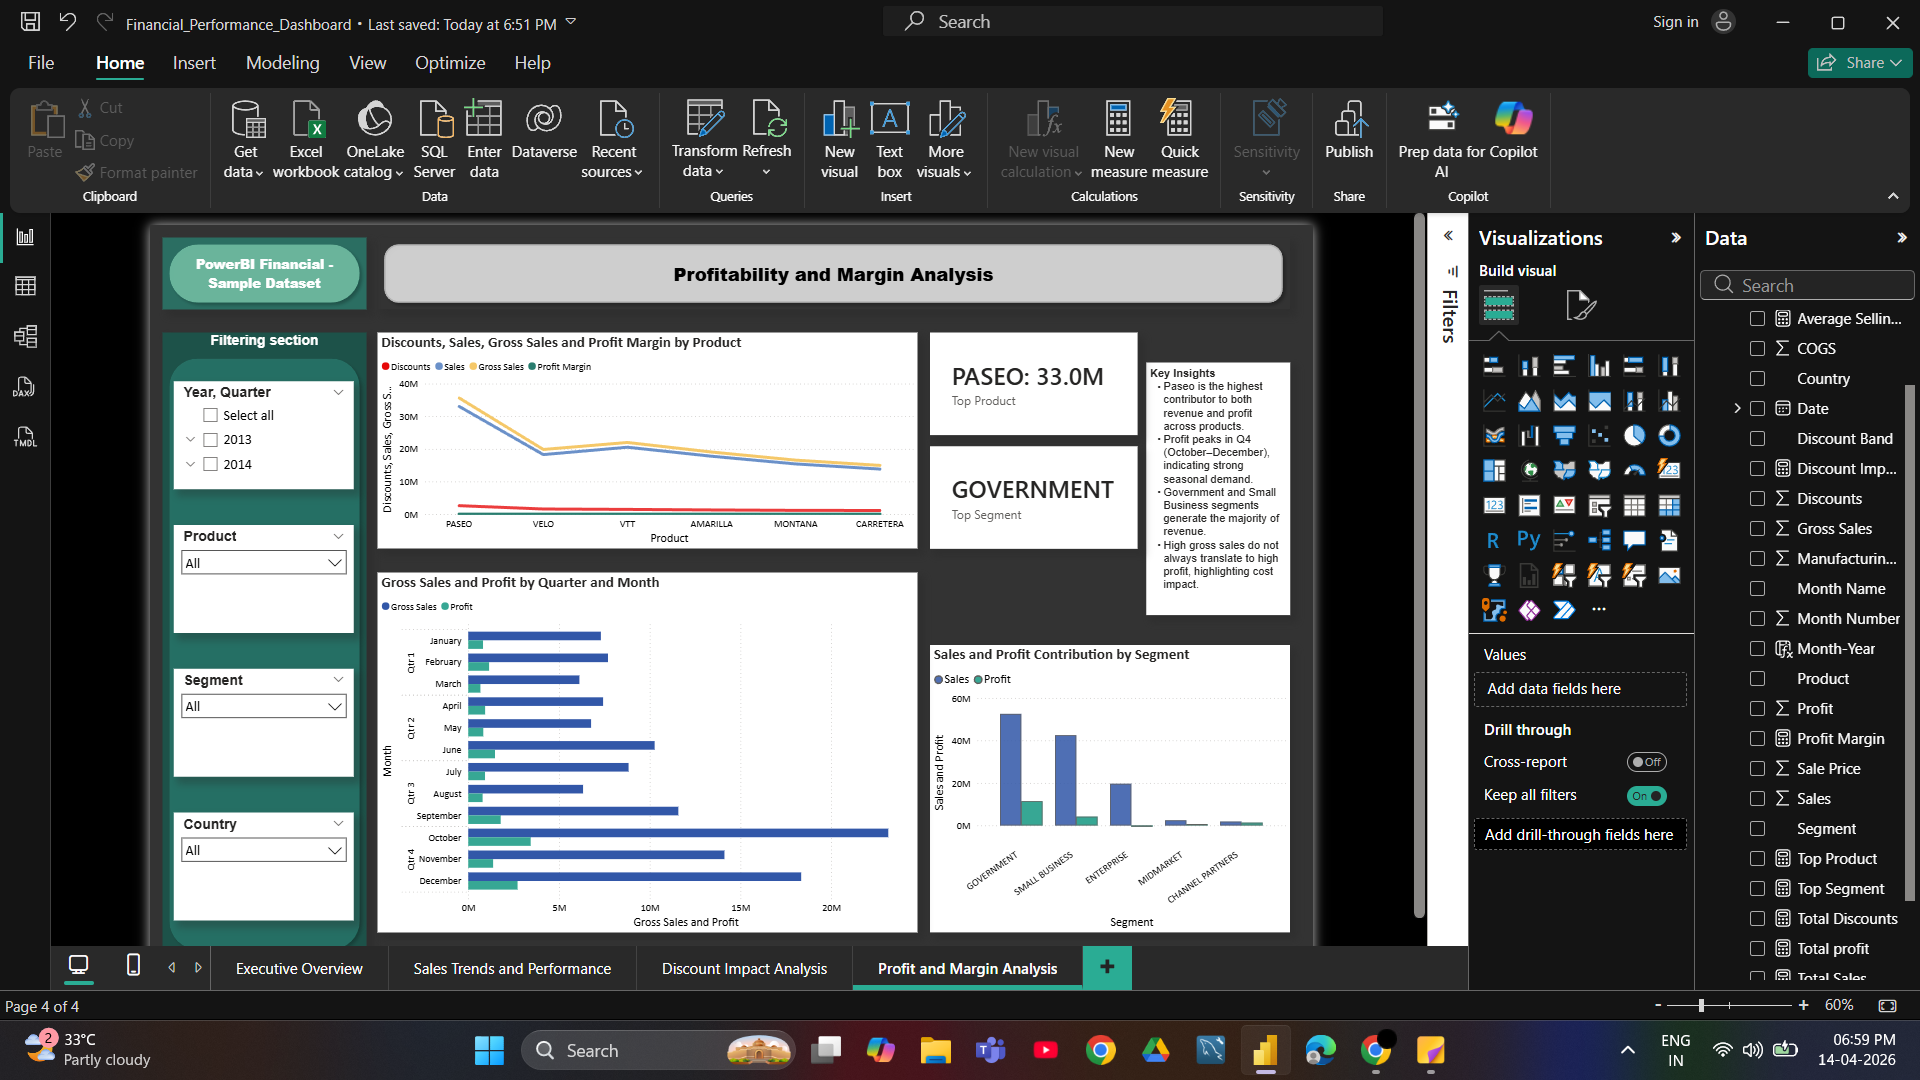

The dashboard page shown, as its layout file describes it:
{"tool":"powerbi","page":{"name":"Profit and Margin Analysis","canvas":[1550,1000],"ordinal":3},"visuals":[{"type":"shape","title":"Filtering  section","box":[16,144,272,832],"z":0},{"type":"shape","title":"PowerBI Financial - Sample Dataset","box":[16,16,272,96],"z":1000},{"type":"shape","box":[304,16,1216,96],"z":2000},{"type":"slicer","fields":{"Values":["financials.Date.Variation.Date Hierarchy.Year","financials.Date.Variation.Date Hierarchy.Quarter"]},"box":[32,208,240,144],"z":3000},{"type":"slicer","fields":{"Values":["financials.Product"]},"box":[32,400,240,144],"z":4000},{"type":"slicer","fields":{"Values":["financials.Segment"]},"box":[32,592,240,144],"z":5000},{"type":"slicer","fields":{"Values":["financials.Country"]},"box":[32,784,240,144],"z":6000},{"type":"textbox","box":[1328.3,183.3,191.7,336.7],"z":7000},{"type":"clusteredColumnChart","title":"Sales and Profit Contribution by Segment","fields":{"Category":["financials.Segment"],"Y":["Sum(financials.Sales)","Sum(financials.Profit)"]},"box":[1040,560,480,383.3],"z":8000},{"type":"clusteredBarChart","fields":{"Category":["financials.Date.Variation.Date Hierarchy.Quarter","financials.Date.Variation.Date Hierarchy.Month"],"Y":["Sum(financials.Gross Sales)","Sum(financials.Profit)"]},"box":[303.3,463.3,720,480],"z":9000},{"type":"lineChart","fields":{"Category":["financials.Product"],"Y":["Sum(financials.Discounts)","Sum(financials.Sales)","Sum(financials.Gross Sales)","financials.Profit Margin"]},"box":[303.3,143.3,720,288.3],"z":10000},{"type":"cardVisual","fields":{"Data":["financials.Top Product"]},"box":[1040,143.3,276.7,136.7],"z":11000},{"type":"cardVisual","fields":{"Data":["financials.Top Segment"]},"box":[1040,295,276.7,136.7],"z":12000}]}

Visuals, with their boxes on the page's 1550x1000 design canvas (x1, y1, x2, y2). These are canvas units, not pixel positions in the 1920x1080 screenshot, which may show the page scaled, cropped or inside an application window:
"Filtering  section" shape: bbox=(16, 144, 288, 976)
"PowerBI Financial - Sample Dataset" shape: bbox=(16, 16, 288, 112)
shape: bbox=(304, 16, 1520, 112)
slicer - financials.Date.Variation.Date Hierarchy.Year x financials.Date.Variation.Date Hierarchy.Quarter: bbox=(32, 208, 272, 352)
slicer - financials.Product: bbox=(32, 400, 272, 544)
slicer - financials.Segment: bbox=(32, 592, 272, 736)
slicer - financials.Country: bbox=(32, 784, 272, 928)
textbox: bbox=(1328, 183, 1520, 520)
"Sales and Profit Contribution by Segment" clusteredColumnChart: bbox=(1040, 560, 1520, 943)
clusteredBarChart - financials.Date.Variation.Date Hierarchy.Quarter x financials.Date.Variation.Date Hierarchy.Month: bbox=(303, 463, 1023, 943)
lineChart - financials.Product x Sum(financials.Discounts): bbox=(303, 143, 1023, 432)
cardVisual - financials.Top Product: bbox=(1040, 143, 1317, 280)
cardVisual - financials.Top Segment: bbox=(1040, 295, 1317, 432)
